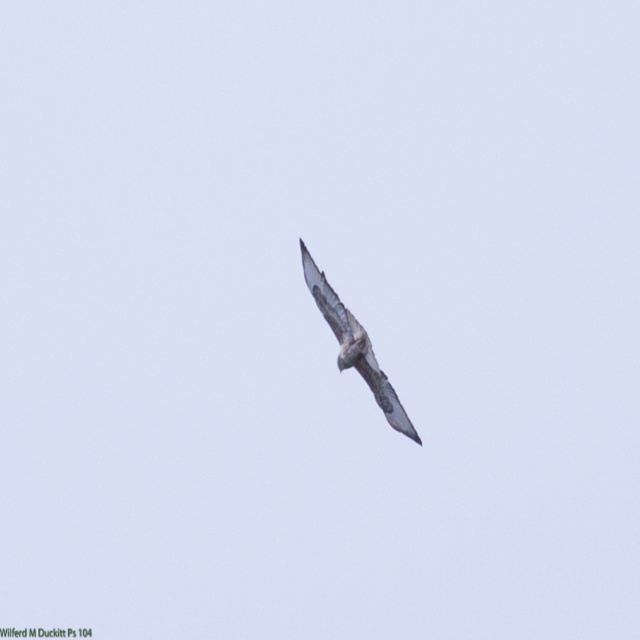Eagle: (299, 235, 420, 445)
